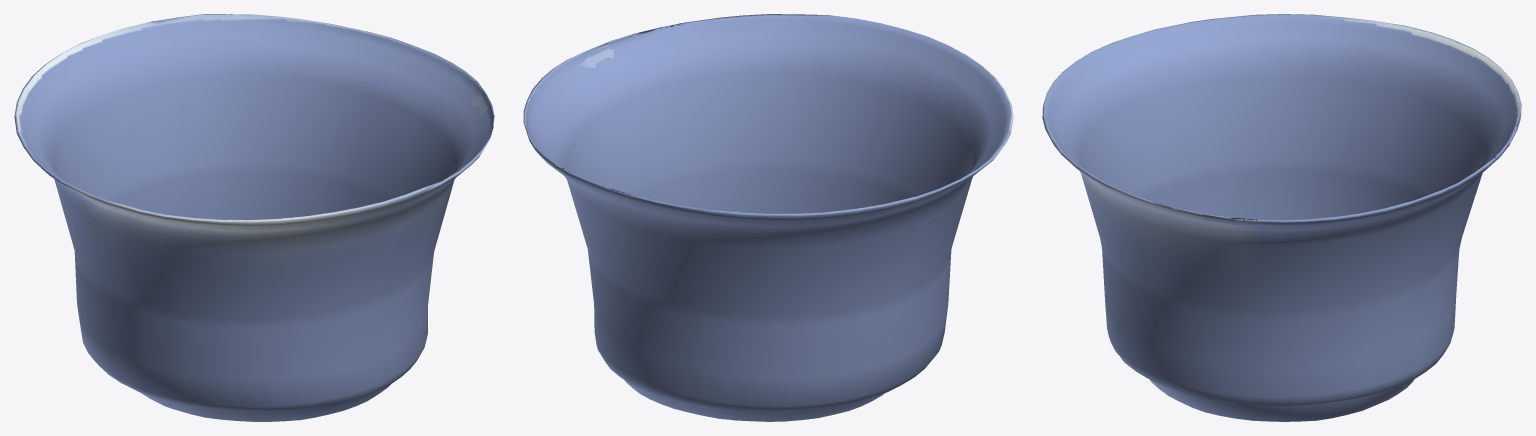
File: dsa25.glb
The picture shows the model from 3 angles, left to right: view 1: azimuth 30°, elevation 25°; view 2: azimuth 150°, elevation 25°; view 3: azimuth 270°, elevation 25°; orthographic projection.
Parts seen in each view (by area): view 1: material.004, material.015; view 2: material.004, material.015; view 3: material.004, material.015.
Part boxes in pixels (box(x1,y1,x2,y2)): material.004: box(14, 14, 494, 411); material.015: box(141, 384, 390, 421); material.004: box(523, 14, 1013, 412); material.015: box(624, 380, 884, 421); material.004: box(1042, 14, 1521, 405); material.015: box(1149, 379, 1414, 421).
Bounding box in the file's own units: 2.22 × 1.29 × 2.2.
Materials: 1 (1 with a texture image).
